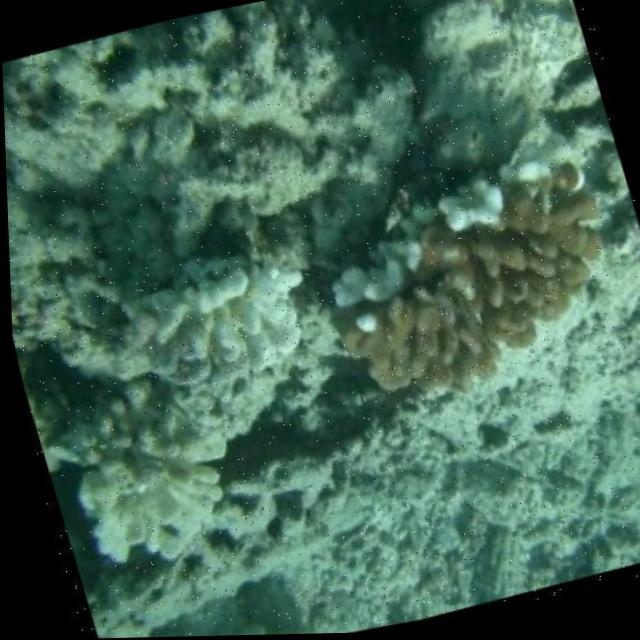Bleached Coral: (53, 372, 246, 592), (166, 250, 314, 381), (306, 226, 432, 333), (405, 152, 538, 241)
